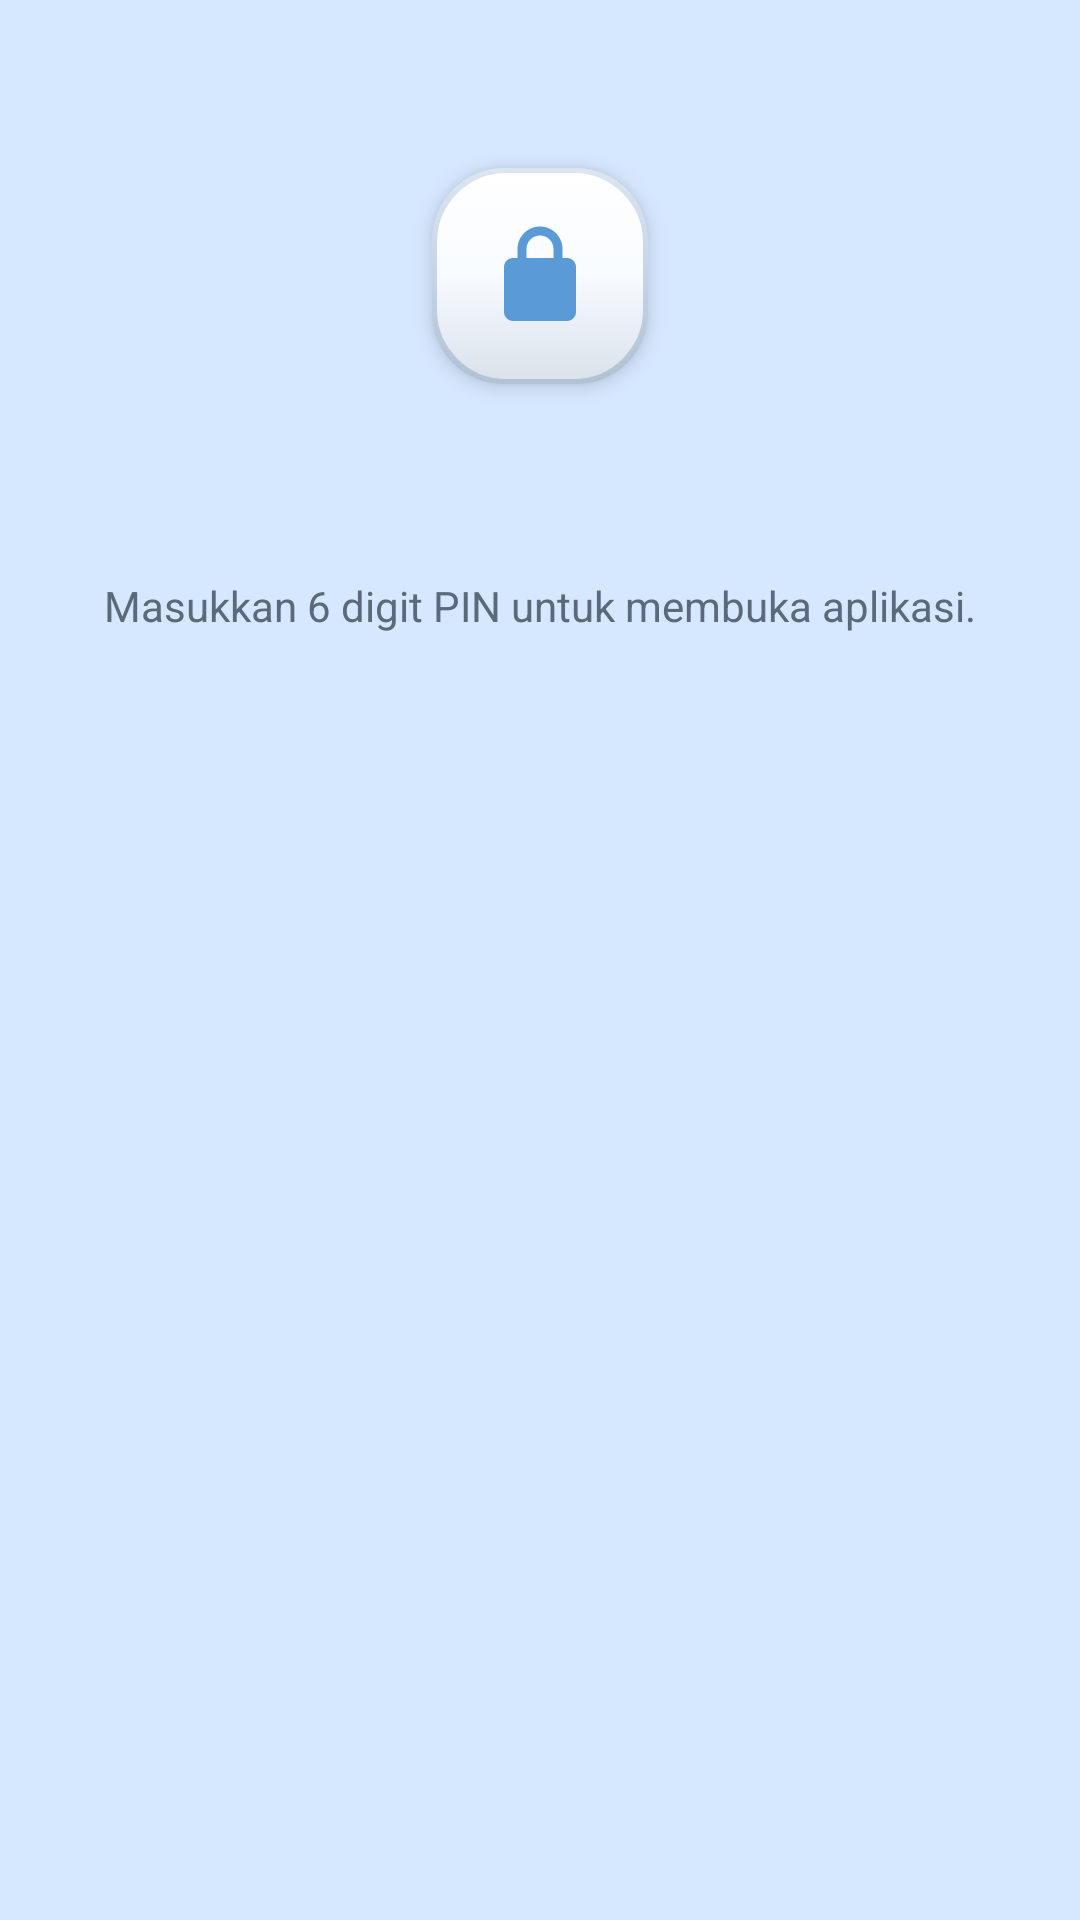

Locate icon controls on the screen. Image size 1080 × 1920, boxes as bbox=(x1, y1, x2, y2).
Masukkan PIN aplikasi: bbox=(437, 173, 643, 384)
